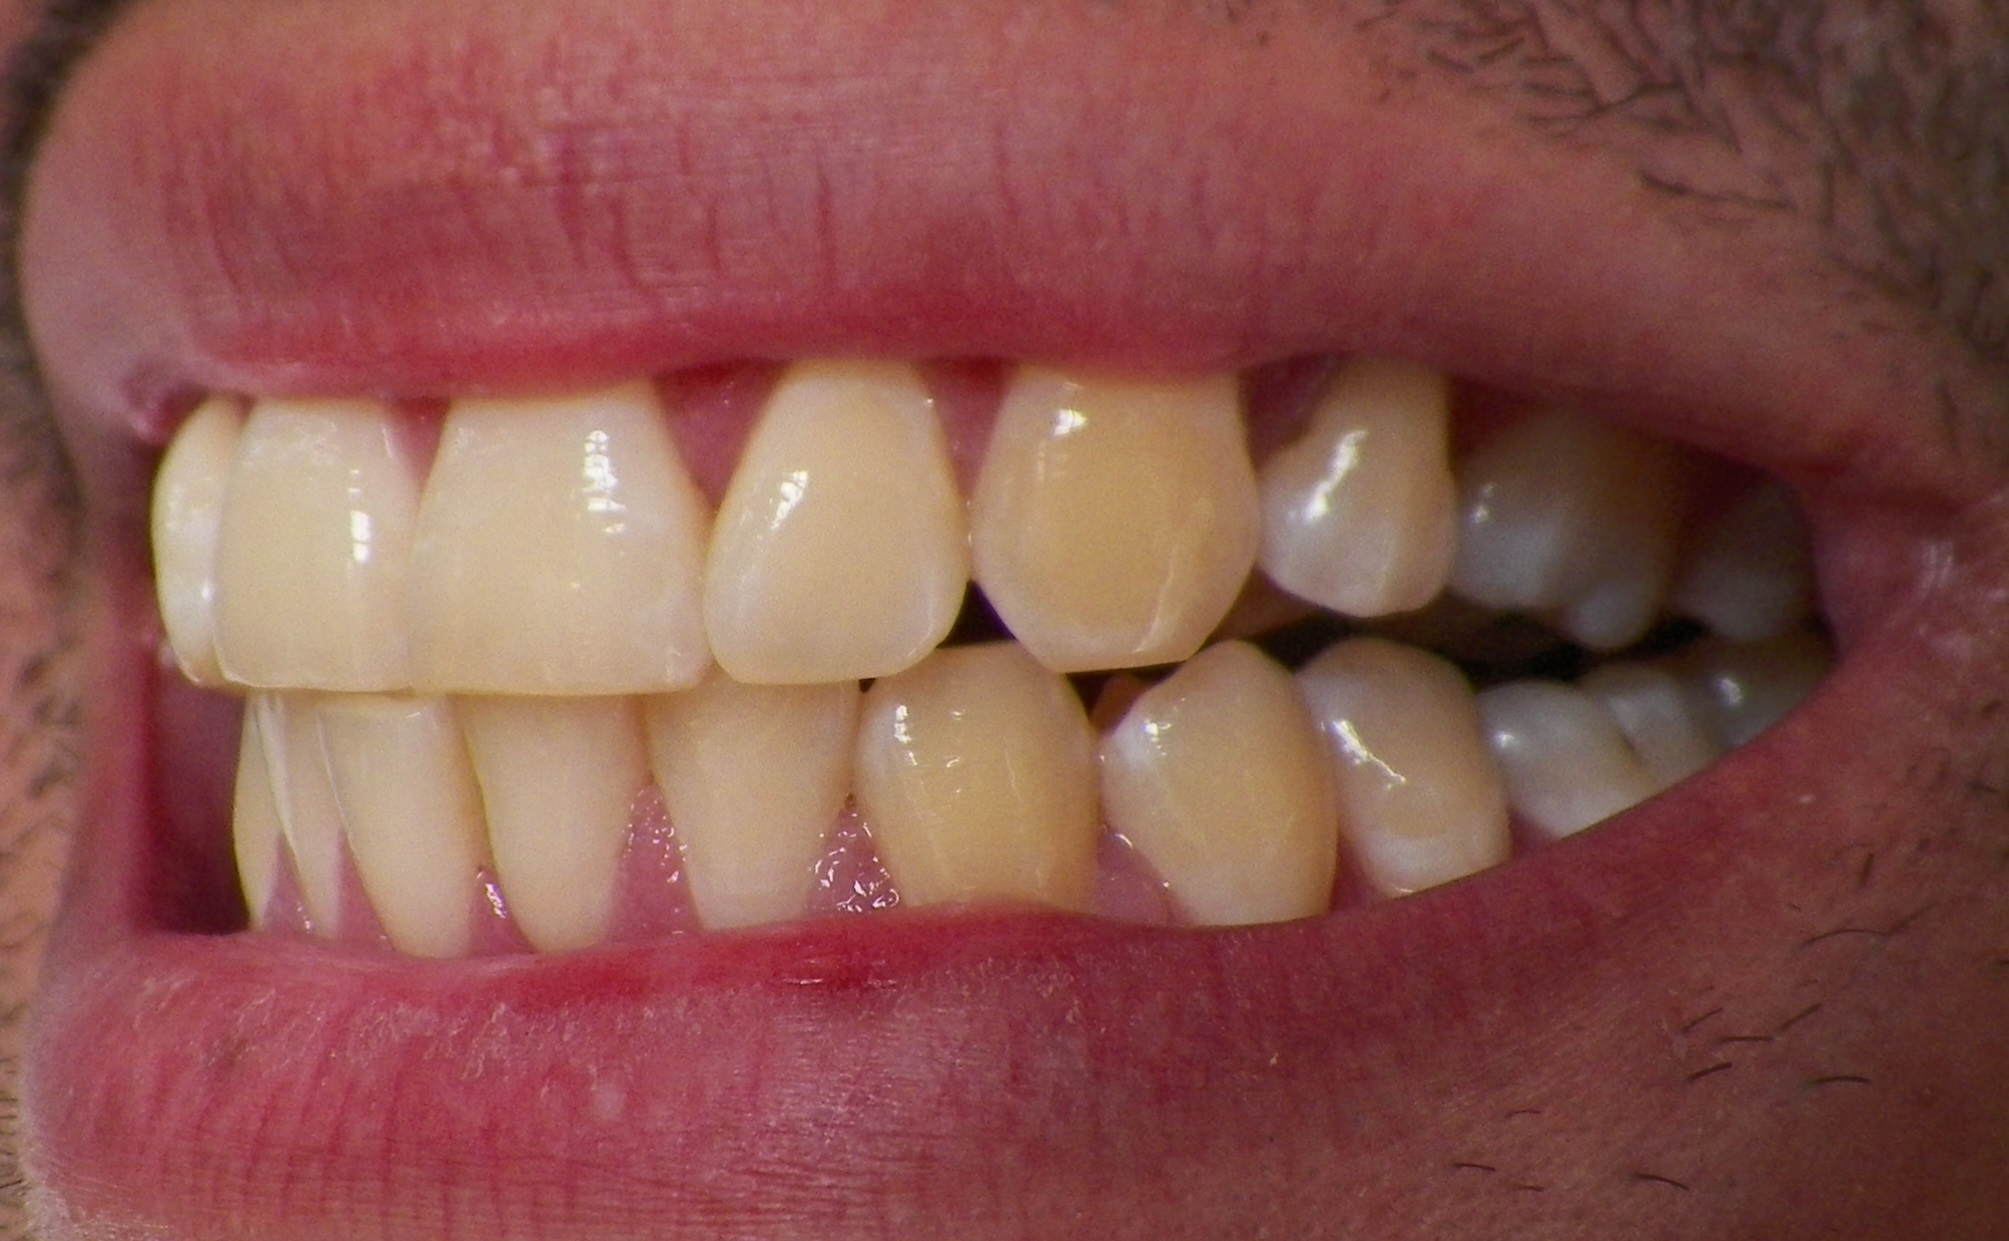boca: (141, 386, 1832, 912)
